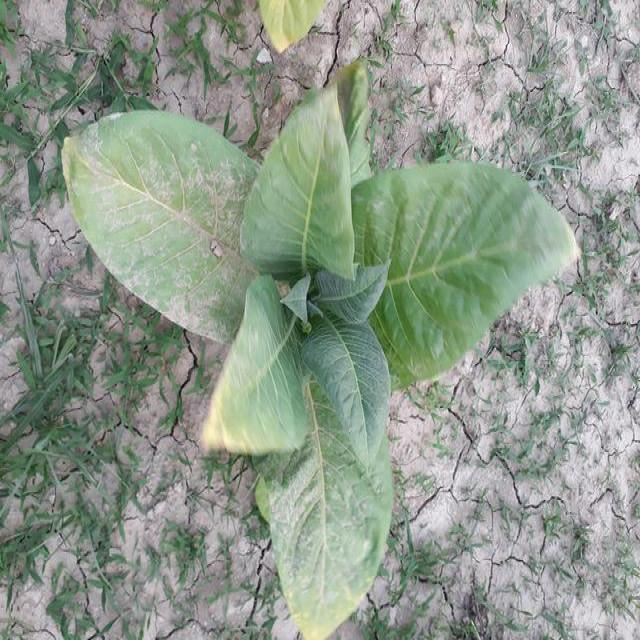crop: (58, 91, 586, 640)
